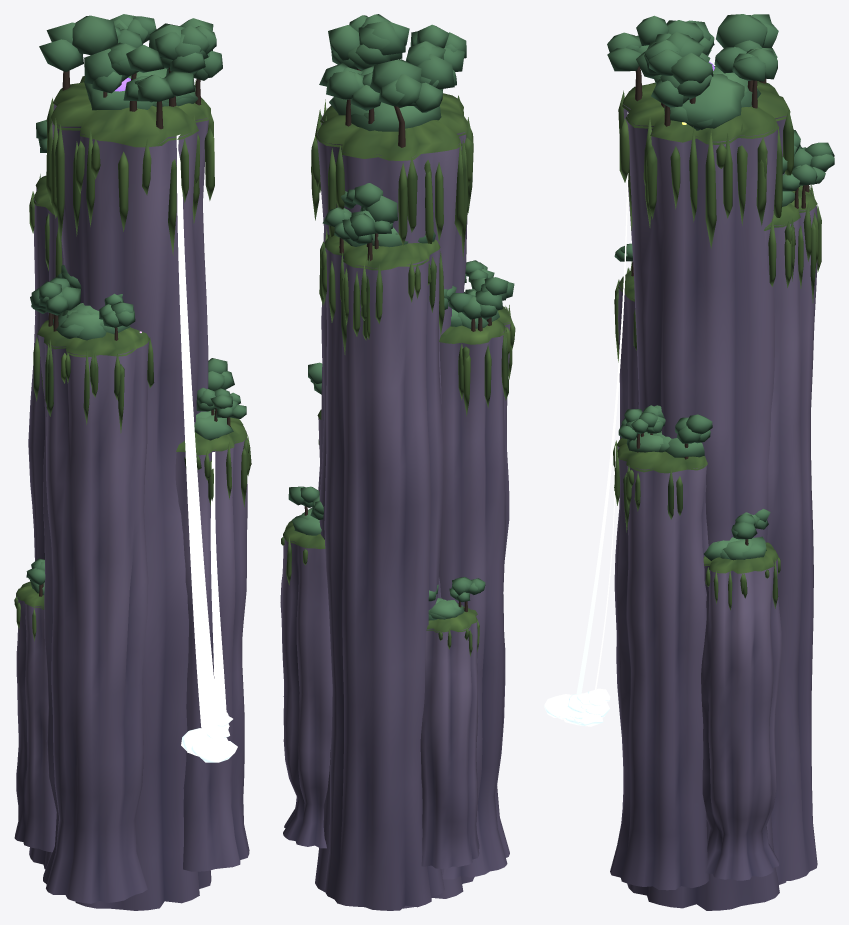
The model's file is tower.glb.
3 views of the same model, side by side, from view 1: azimuth 30°, elevation 25°; view 2: azimuth 150°, elevation 25°; view 3: azimuth 270°, elevation 25° (orthographic). The views are drawn at different scales.
Parts seen in each view (by area): view 1: hero_valley_rock, hero_valley_moss, hero_valley_leaf, valley_falls, valley_spray, hero_valley_bark; view 2: hero_valley_rock, hero_valley_moss, hero_valley_leaf, hero_valley_bark; view 3: hero_valley_rock, hero_valley_leaf, hero_valley_moss, valley_falls, valley_spray, hero_valley_bark.
Part boxes in pixels (x1=…): hero_valley_rock: x1=14, y1=101, x2=249, y2=910; hero_valley_moss: x1=14, y1=76, x2=251, y2=641; hero_valley_leaf: x1=26, y1=14, x2=246, y2=595; valley_falls: x1=176, y1=134, x2=226, y2=737; valley_spray: x1=181, y1=712, x2=237, y2=762; hero_valley_bark: x1=39, y1=67, x2=230, y2=596; hero_valley_rock: x1=280, y1=114, x2=511, y2=910; hero_valley_moss: x1=281, y1=93, x2=515, y2=656; hero_valley_leaf: x1=288, y1=14, x2=514, y2=620; hero_valley_bark: x1=304, y1=69, x2=491, y2=611; hero_valley_rock: x1=610, y1=104, x2=817, y2=910; hero_valley_leaf: x1=607, y1=14, x2=834, y2=560; hero_valley_moss: x1=613, y1=81, x2=821, y2=610; valley_falls: x1=576, y1=112, x2=628, y2=708; valley_spray: x1=544, y1=688, x2=610, y2=726; hero_valley_bark: x1=631, y1=66, x2=809, y2=545.
Size of the model in its own units: 106 by 430 by 132.
